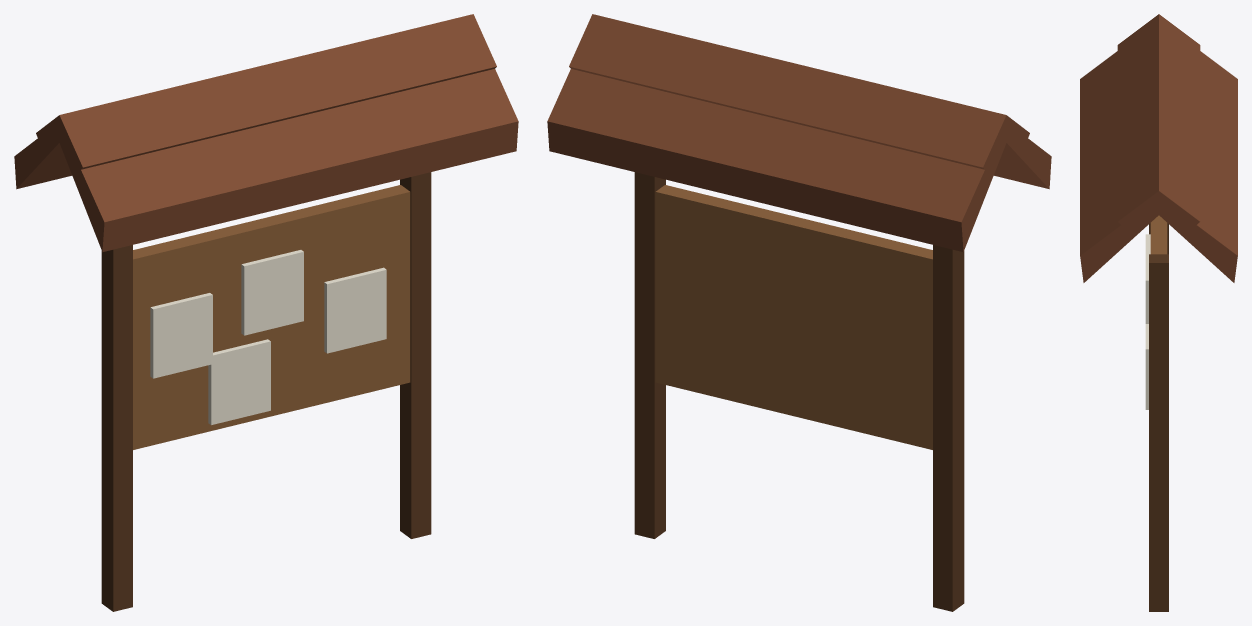
File: Notice_Board.fbx
3 views of the same model, side by side, from view 1: azimuth 30°, elevation 25°; view 2: azimuth 150°, elevation 25°; view 3: azimuth 270°, elevation 25° (orthographic). The views are drawn at different scales.
Parts seen in each view (by area): view 1: Notice_Board; view 2: Notice_Board; view 3: Notice_Board.
Part boxes in pixels (x1,y1,x2,y2): Notice_Board: [14, 14, 518, 611]; Notice_Board: [547, 14, 1051, 611]; Notice_Board: [1080, 14, 1237, 611].
Size of the model in its own units: 2.5 by 2.91 by 0.9424.
